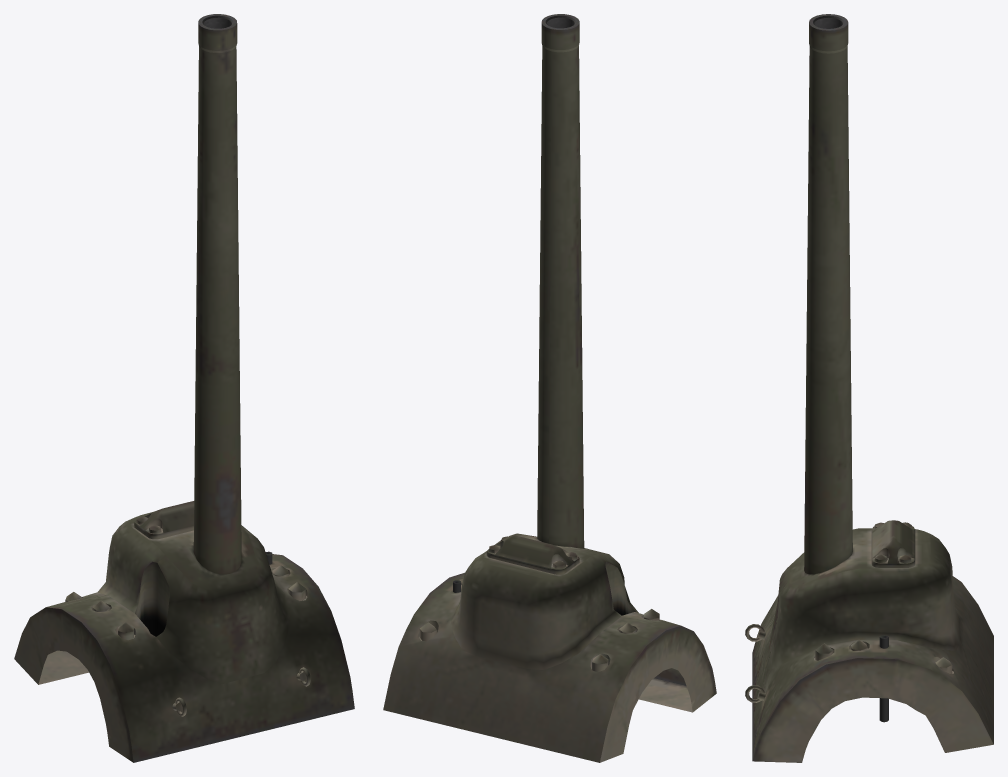
File: Gun_01.glb
The picture shows the model from 3 angles, left to right: view 1: azimuth 30°, elevation 25°; view 2: azimuth 150°, elevation 25°; view 3: azimuth 270°, elevation 25°; orthographic projection. The views are drawn at different scales.
Parts seen in each view (by area): view 1: set_0_group_0; view 2: set_0_group_0; view 3: set_0_group_0.
Part boxes in pixels (box(x1,y1,x2,y2)): set_0_group_0: box(14, 14, 354, 762); set_0_group_0: box(383, 14, 716, 762); set_0_group_0: box(745, 14, 993, 762).
Size of the model in its own units: 0.6802 by 2.01 by 0.6559.
Materials: 1 (1 with a texture image).
